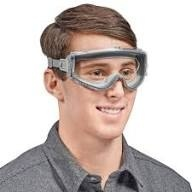safety_goggles: (34, 44, 175, 90)
